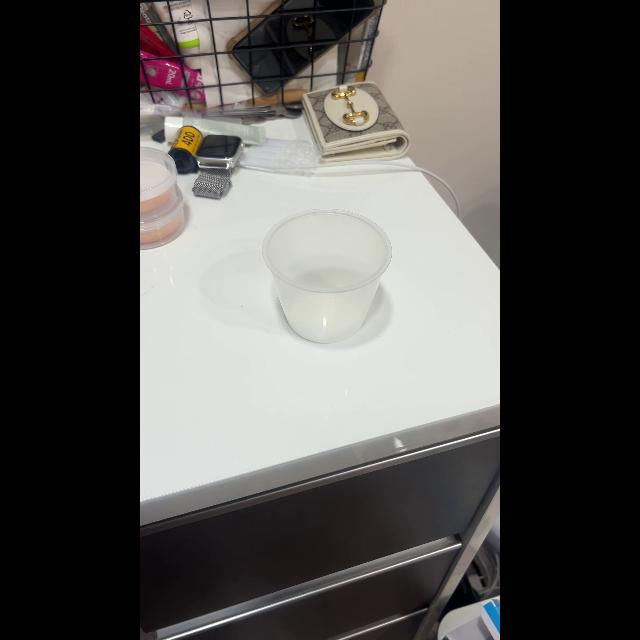clean: (260, 210, 396, 350)
